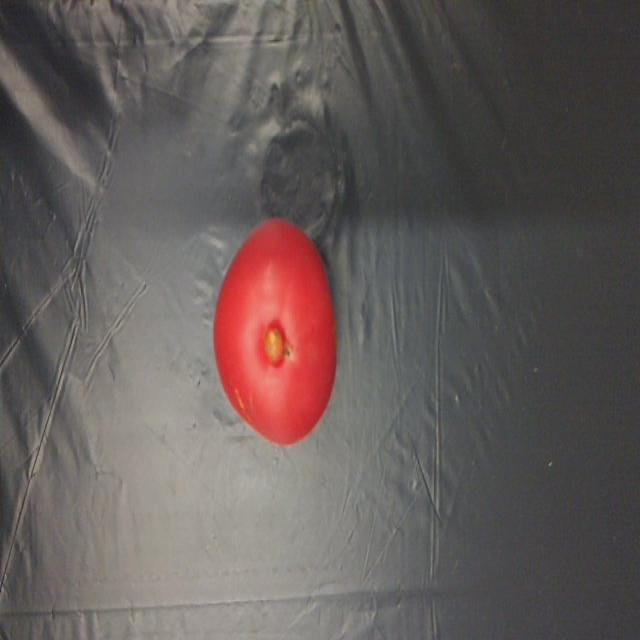kirmizi: (200, 183, 361, 470)
